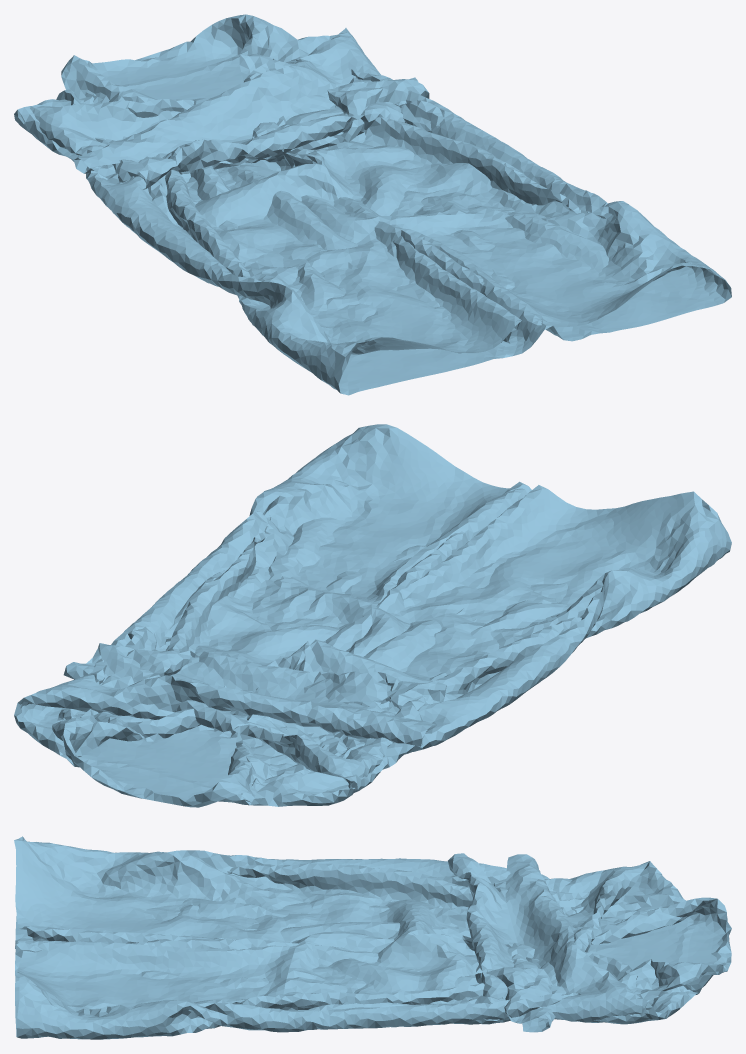
File: frame_01.glb
3 renders of one model, top to bottom at view 1: azimuth 30°, elevation 25°; view 2: azimuth 150°, elevation 25°; view 3: azimuth 270°, elevation 25°, orthographic. The views are drawn at different scales.
Parts seen in each view (by area): view 1: frame_01.obj; view 2: frame_01.obj; view 3: frame_01.obj.
Boxes of the visible parts, bbox=[...] form: frame_01.obj: bbox=[14, 14, 731, 395]; frame_01.obj: bbox=[14, 424, 731, 807]; frame_01.obj: bbox=[14, 836, 731, 1039].
Bounding box in the file's own units: 0.9683 × 0.127 × 1.67.
